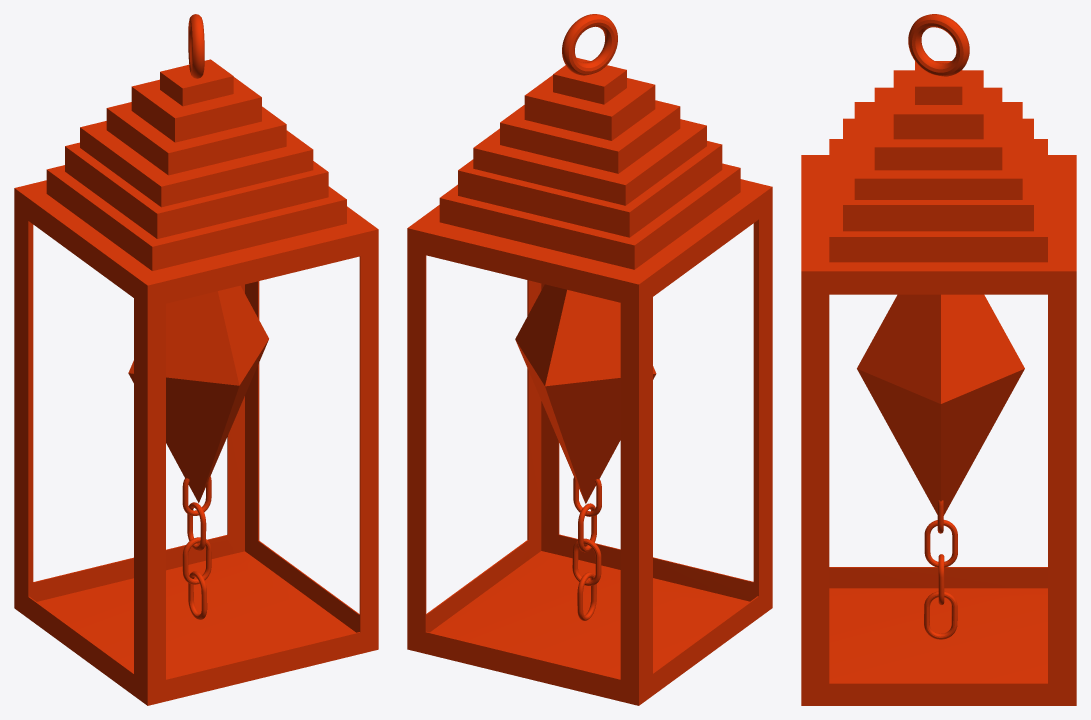
File: lampa_low.fbx
The picture shows the model from 3 angles, left to right: view 1: azimuth 30°, elevation 25°; view 2: azimuth 150°, elevation 25°; view 3: azimuth 270°, elevation 25°; orthographic projection. The views are drawn at different scales.
Parts seen in each view (by area): view 1: corpus_low, cristal_low, chain_low, ring_low; view 2: corpus_low, cristal_low, chain_low, ring_low; view 3: corpus_low, cristal_low, ring_low, chain_low.
Boxes of the visible parts, <box> form: corpus_low: <box>14,59,378,705</box>; cristal_low: <box>128,285,268,503</box>; chain_low: <box>182,476,211,619</box>; ring_low: <box>188,14,204,78</box>; corpus_low: <box>407,57,772,705</box>; cristal_low: <box>515,284,656,503</box>; chain_low: <box>572,477,601,620</box>; ring_low: <box>562,14,617,75</box>; corpus_low: <box>801,61,1076,705</box>; cristal_low: <box>857,294,1024,515</box>; ring_low: <box>908,14,969,76</box>; chain_low: <box>924,500,957,639</box>.
Size of the model in its own units: 183 by 463 by 183.
